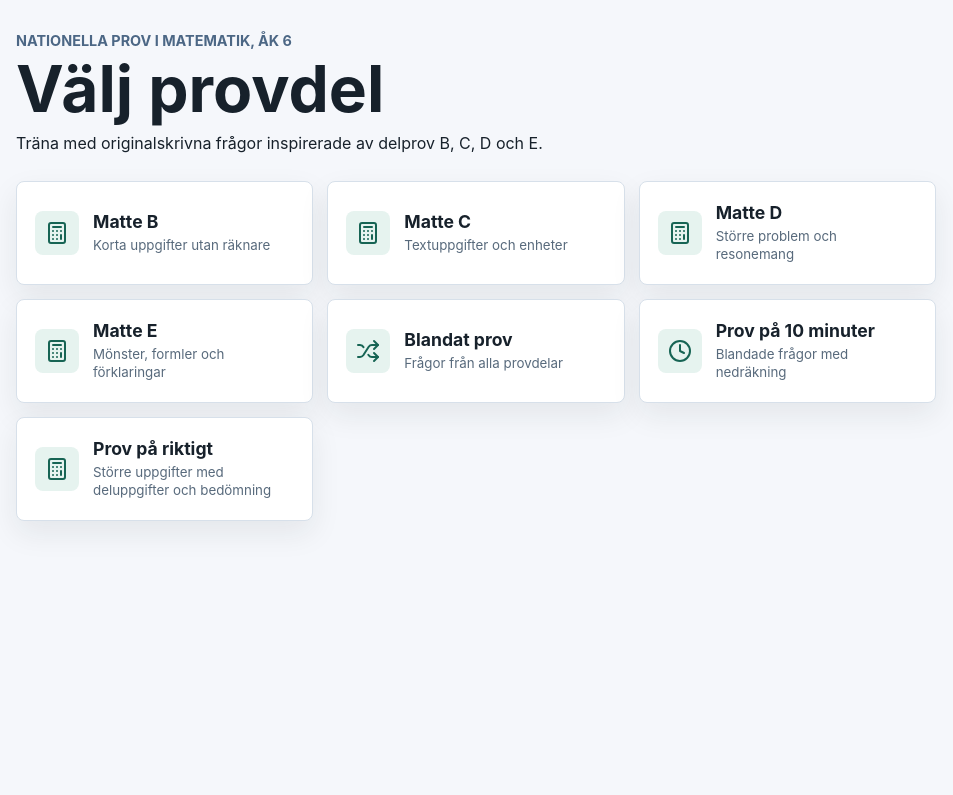
Test case: real exam mode › shows Prov på riktigt in mode selection and renders real exam mode when selected
The image size is (953, 795).
Click the button "Prov på riktigt" at coordinates (165, 469), box x1=16 y1=417 x2=313 y2=521
(page scrolled)
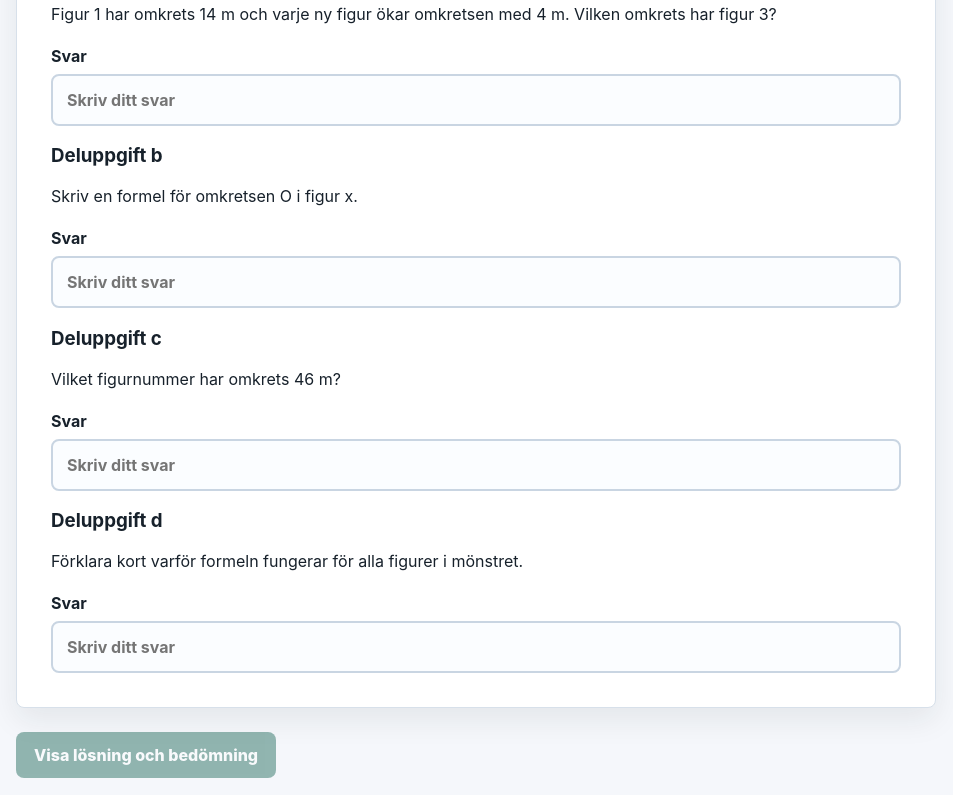
Now the button "Visa lösning och bedömning" is shown, box x1=16 y1=732 x2=276 y2=778
